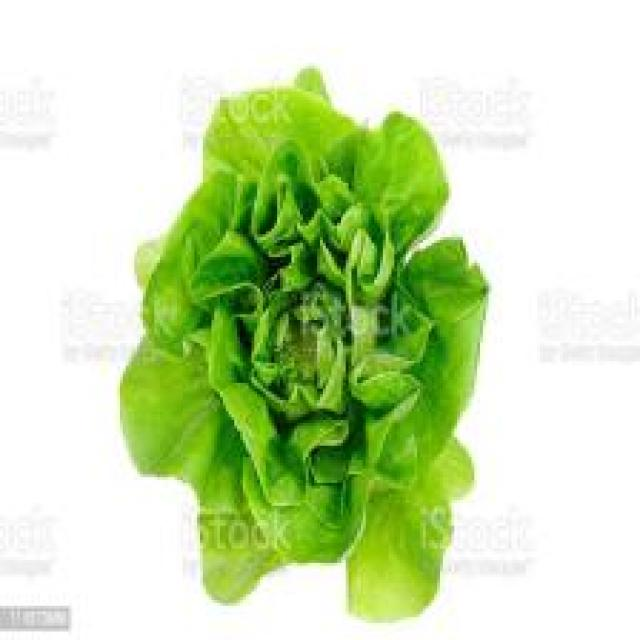Lettuce: (114, 59, 493, 621)
